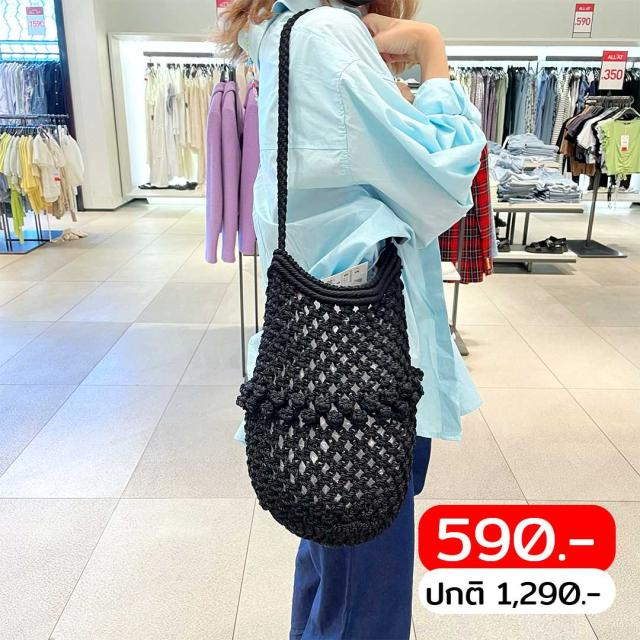handbag: (233, 227, 432, 556)
